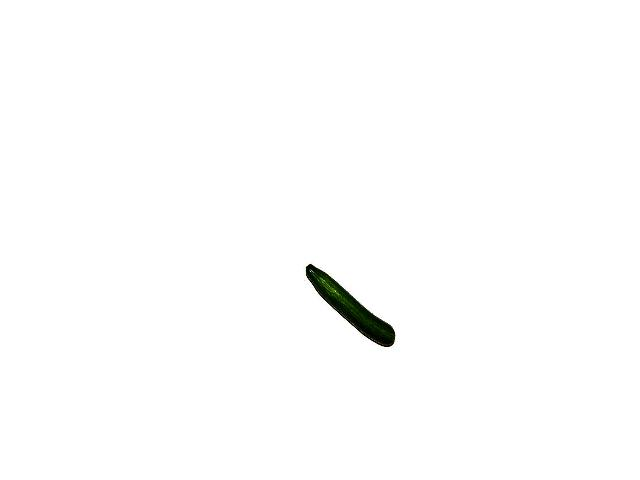cucumber: (306, 264, 395, 346)
